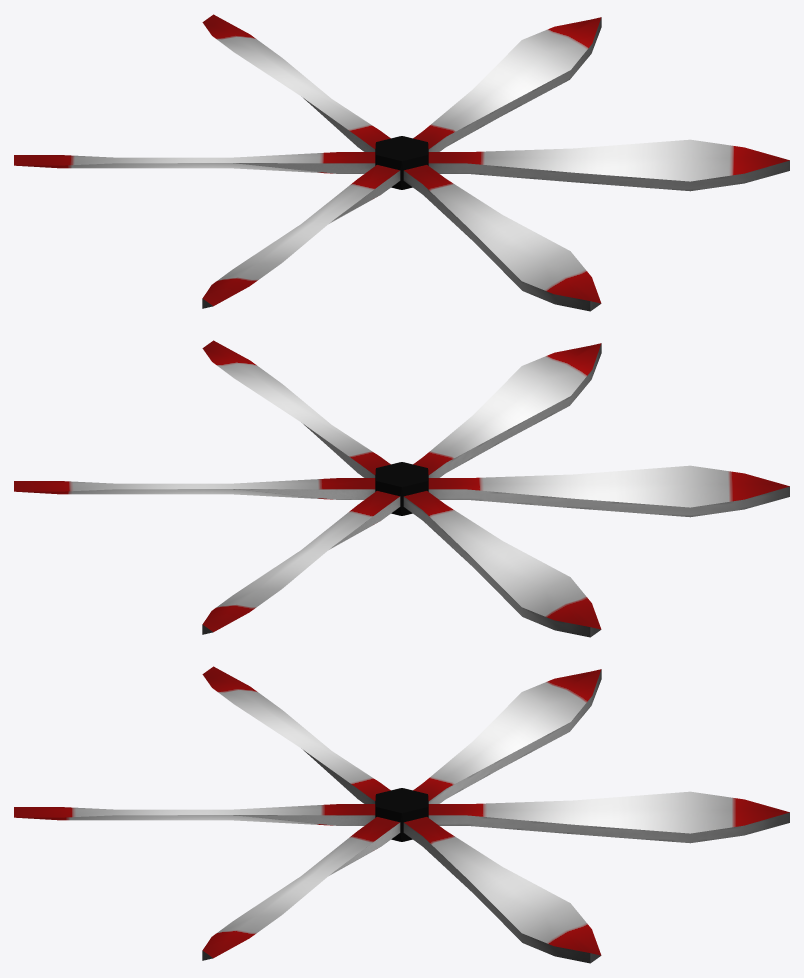
The model's file is propeller.obj.
3 renders of one model, top to bottom at view 1: azimuth 30°, elevation 25°; view 2: azimuth 150°, elevation 25°; view 3: azimuth 270°, elevation 25°, orthographic.
Visible parts, largest first — view 1: propeller_Mesh; view 2: propeller_Mesh; view 3: propeller_Mesh.
Boxes of the visible parts, <box> form: propeller_Mesh: <box>14,14,789,311</box>; propeller_Mesh: <box>14,340,789,637</box>; propeller_Mesh: <box>14,666,789,963</box>.
Bounding box in the file's own units: 1.53 × 0.0773 × 1.75.
1 material, 1 textured.
